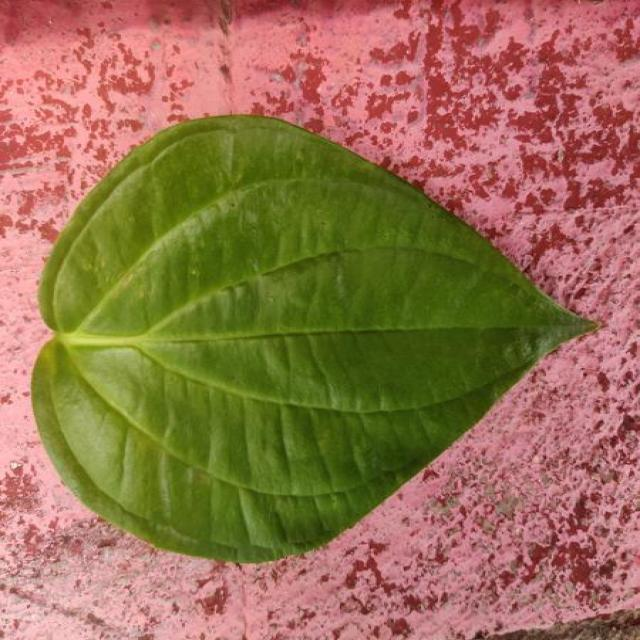betel: (32, 115, 595, 562)
